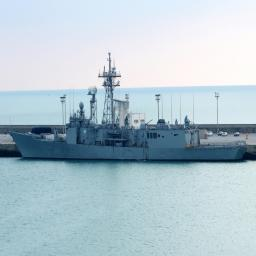Fragata: (8, 53, 250, 165)
